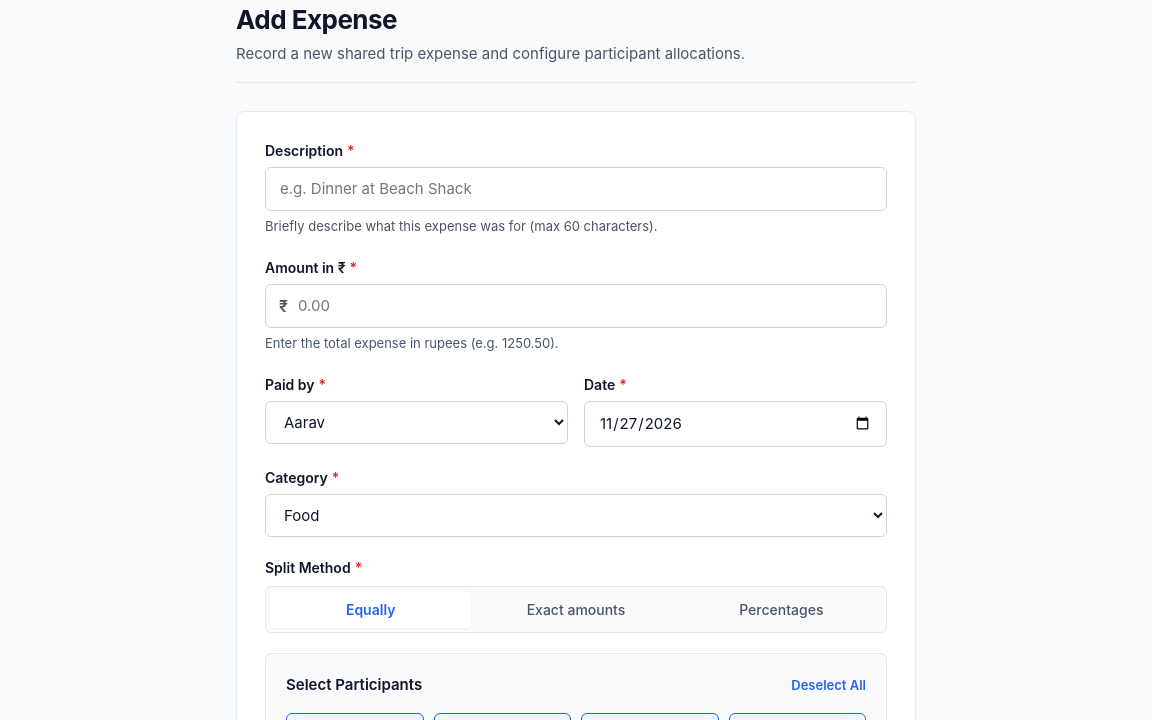
Scenario: AddExpensePage Integration › successfully creates an equal split expense, updates Redux, and navigates back with flash message
Type "Parasailing Adventure" into the field labelled "Description *" at [576, 189], box [265,166,887,211]
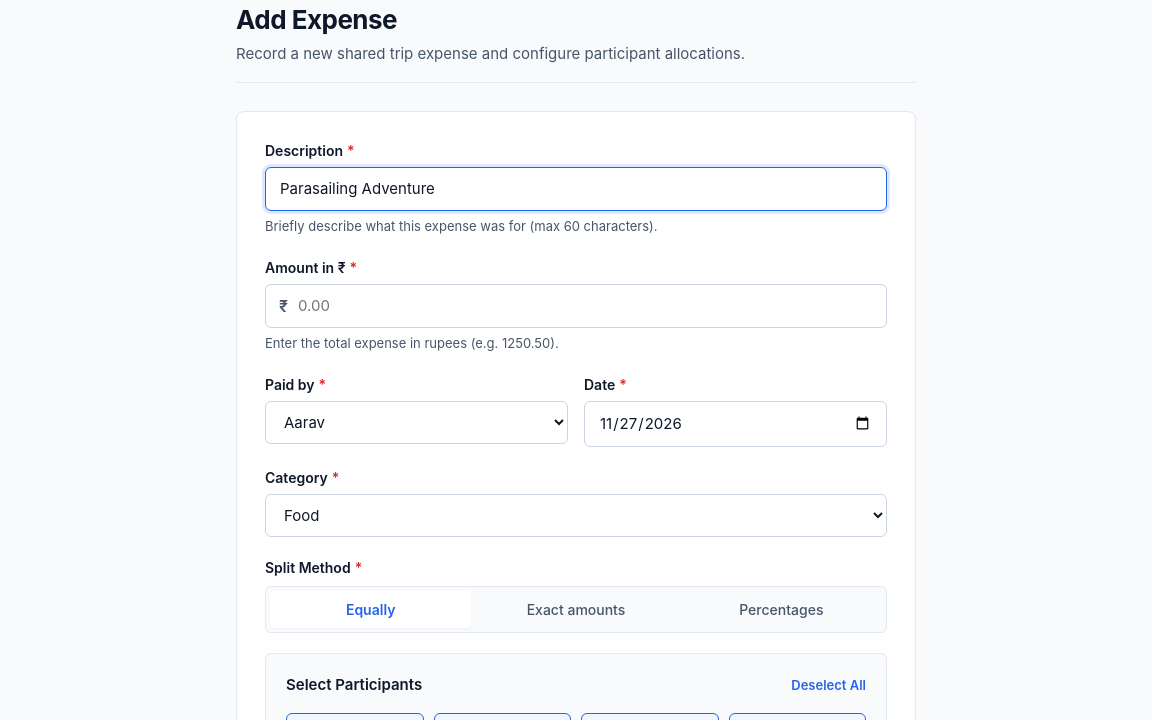
Type "4500.00" into the field labelled "Amount in ₹ *" at [576, 306], box [265,284,887,328]
(page scrolled)
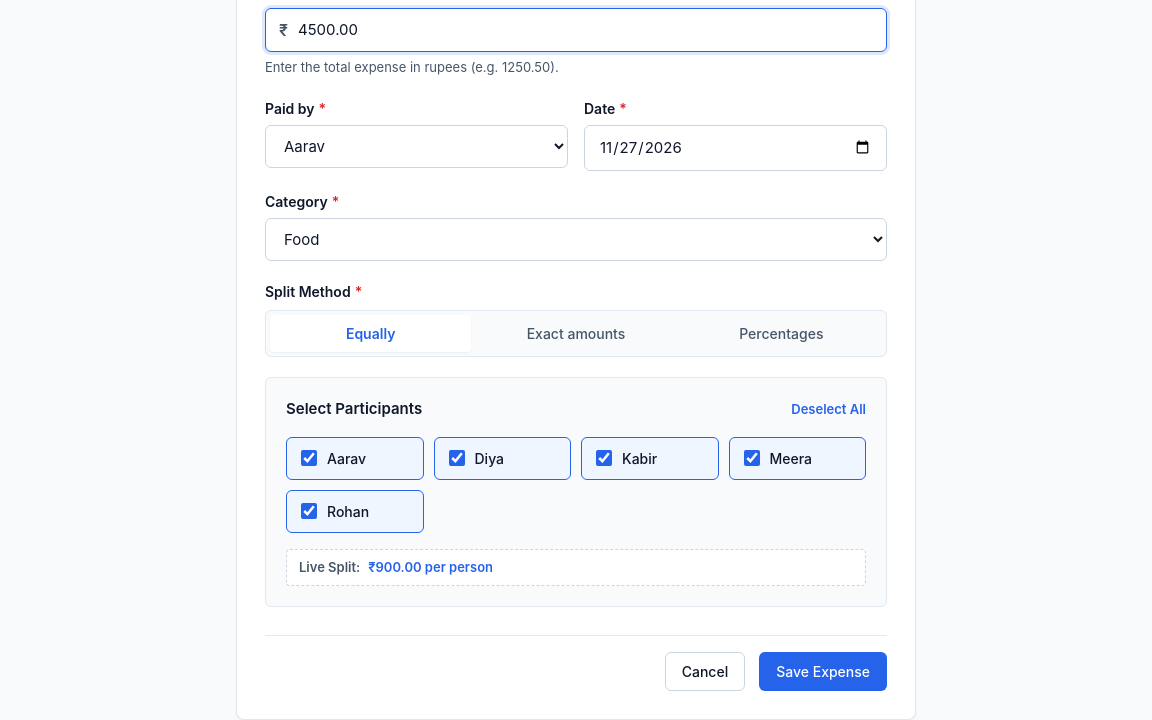
Click the button "Save Expense" at [823, 672], box [759,652,887,691]
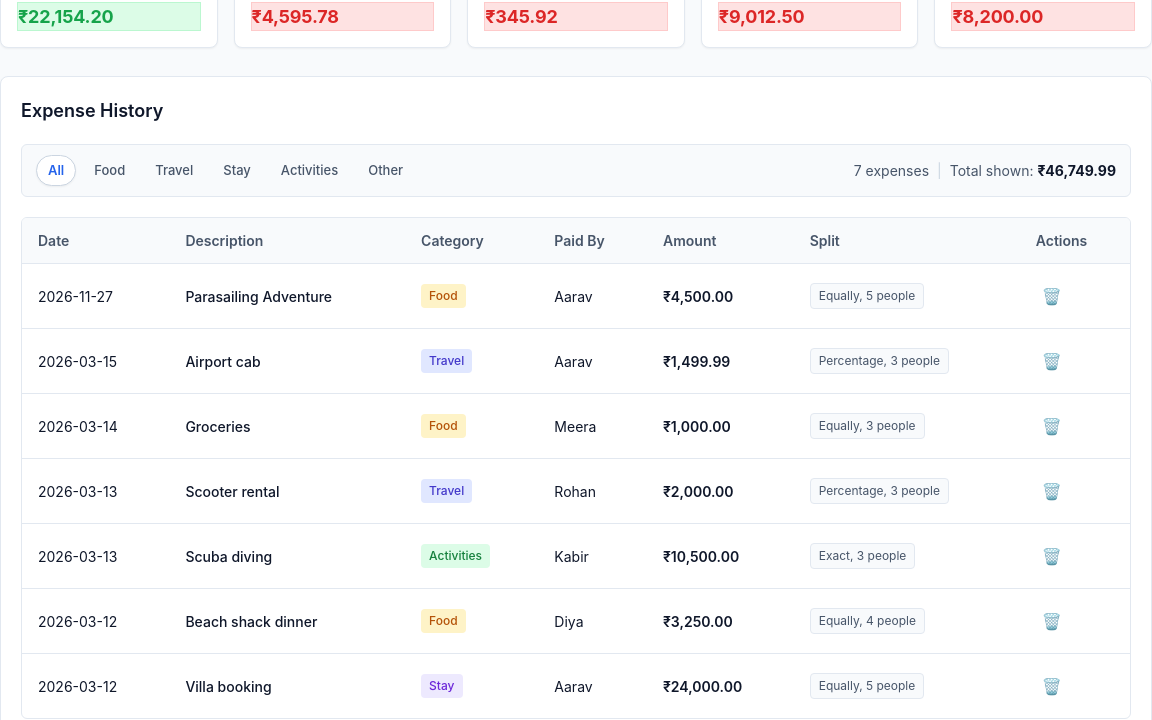
Expected: the text "Parasailing Adventure" is shown, [185,288,332,304]
